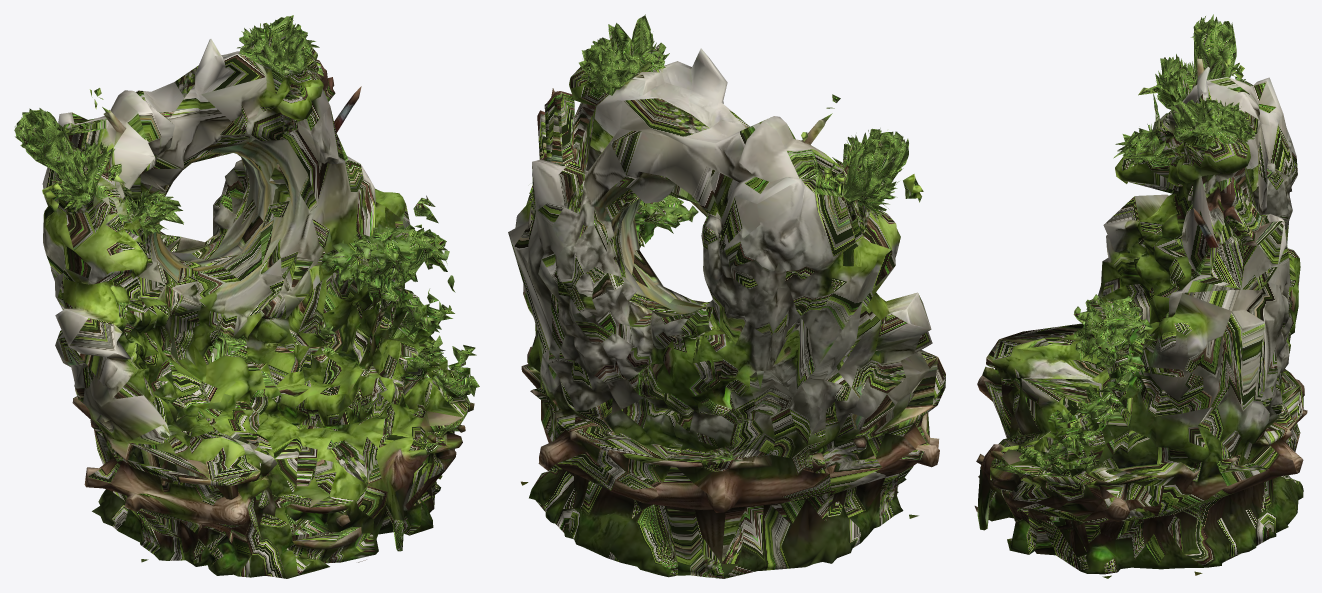
The model's file is Verdant_Ring_of_Stone.glb.
The picture shows the model from 3 angles, left to right: view 1: azimuth 30°, elevation 25°; view 2: azimuth 150°, elevation 25°; view 3: azimuth 270°, elevation 25°; orthographic projection. The views are drawn at different scales.
Parts seen in each view (by area): view 1: Verdant_Ring_of_Stone; view 2: Verdant_Ring_of_Stone; view 3: Verdant_Ring_of_Stone.
Boxes of the visible parts, x1=… form: Verdant_Ring_of_Stone: x1=14, y1=15, x2=479, y2=578; Verdant_Ring_of_Stone: x1=508, y1=14, x2=945, y2=578; Verdant_Ring_of_Stone: x1=974, y1=14, x2=1307, y2=578.
Size of the model in its own units: 1.76 by 1.89 by 1.32.
1 material, 1 textured.
